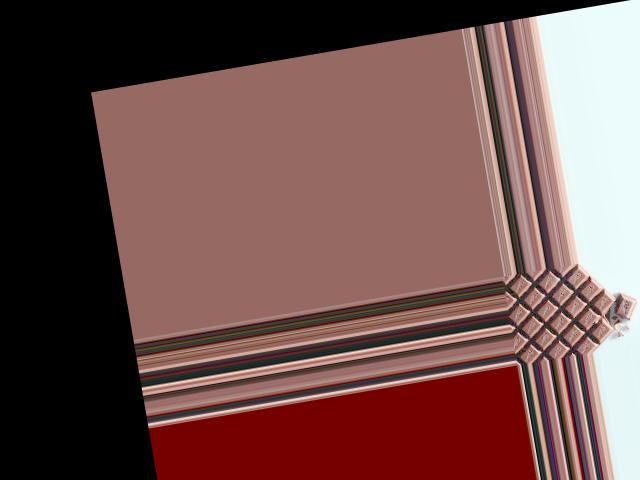chocolate: (501, 260, 631, 364)
